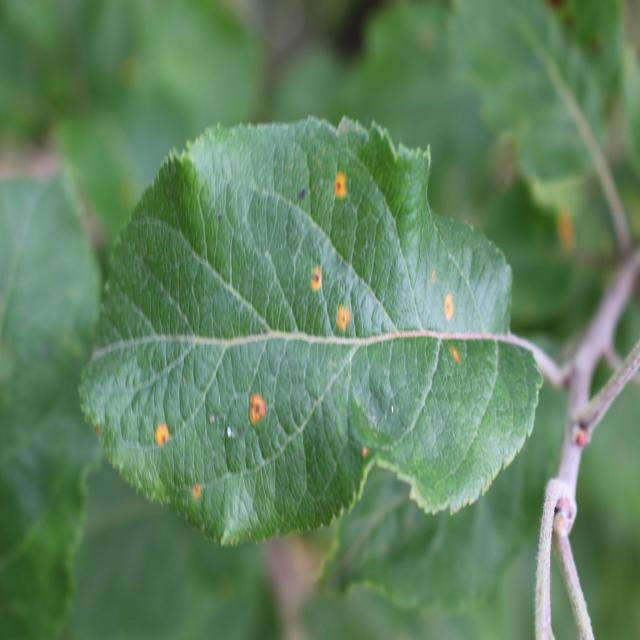Rust: (240, 378, 272, 442), (305, 246, 331, 318), (328, 148, 356, 212), (329, 290, 357, 341), (441, 329, 466, 382), (184, 480, 210, 516), (156, 415, 175, 460), (440, 287, 457, 328)
